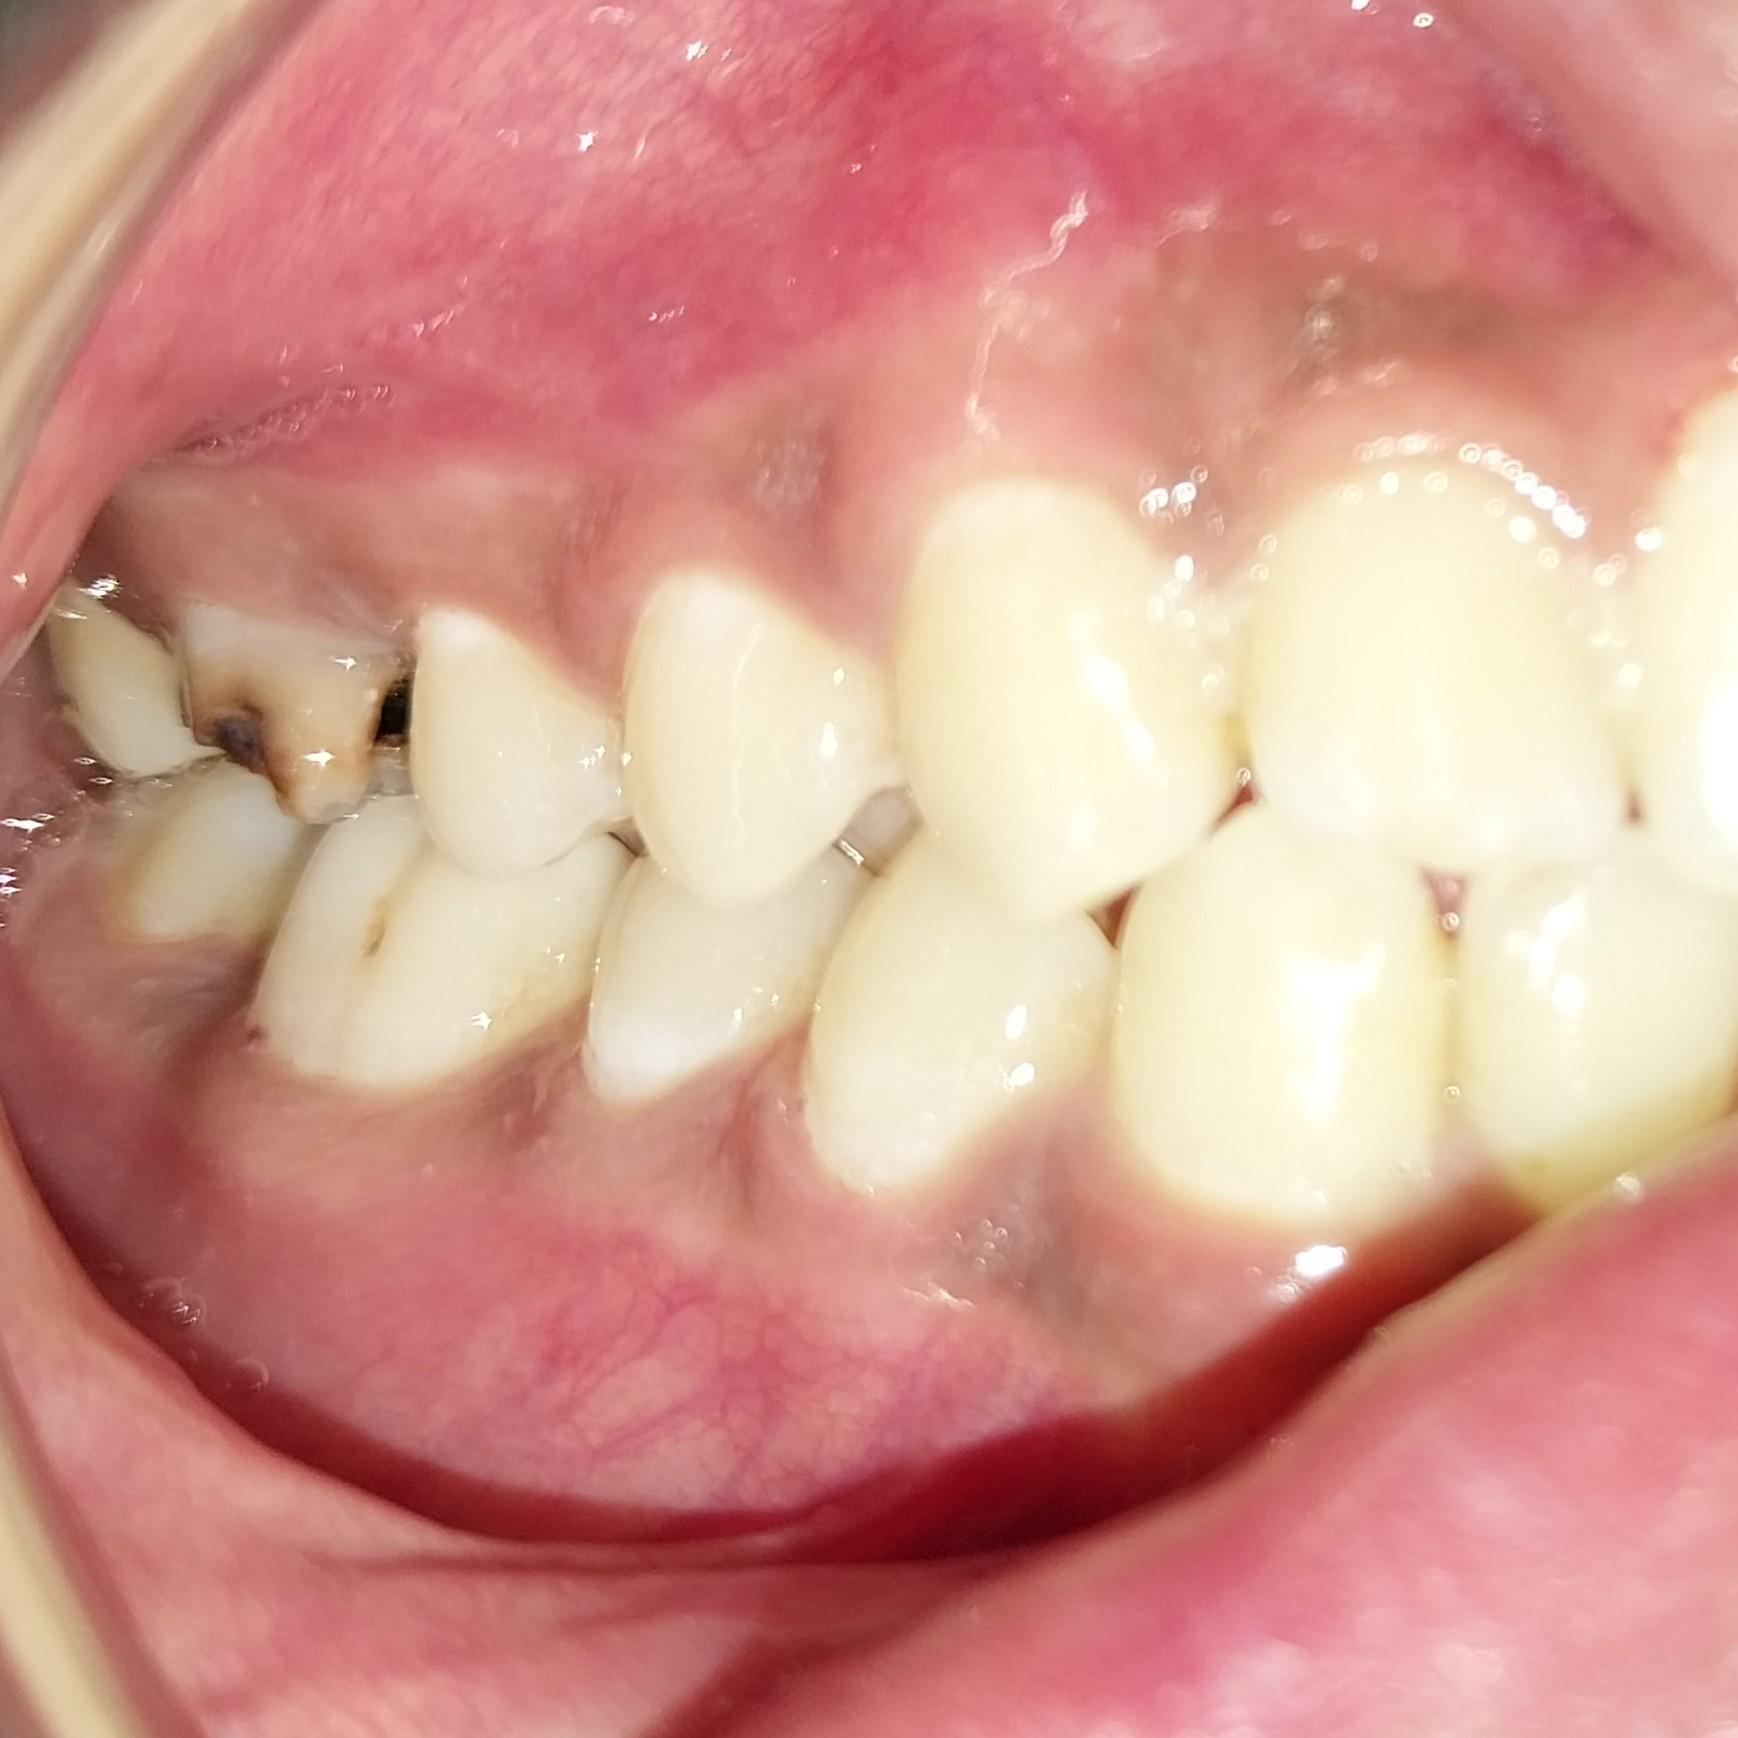D: (160, 592, 416, 836)
